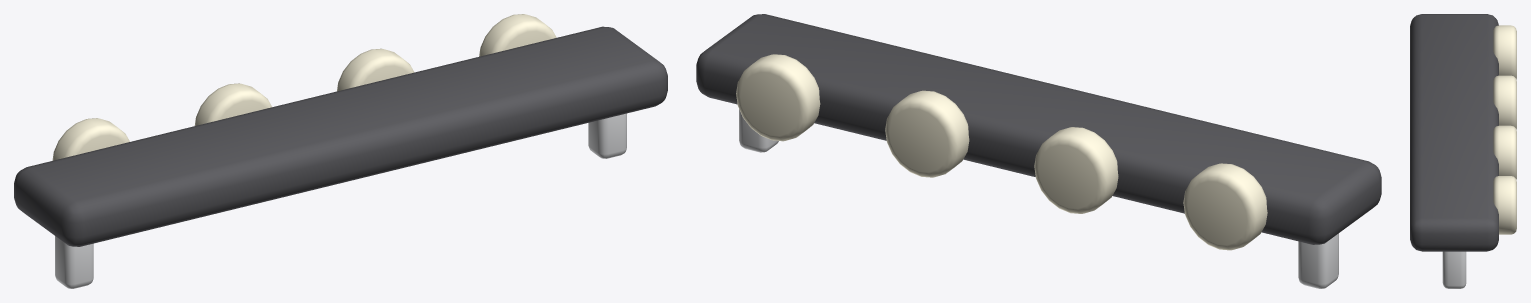
Rendered from Dach_Belka_Swietlna.fbx.
3 views of the same model, side by side, from view 1: azimuth 30°, elevation 25°; view 2: azimuth 150°, elevation 25°; view 3: azimuth 270°, elevation 25° (orthographic). The views are drawn at different scales.
Parts seen in each view (by area): view 1: Dach_Belka_Swietlna; view 2: Dach_Belka_Swietlna; view 3: Dach_Belka_Swietlna.
Boxes of the visible parts, box(x1,y1,x2,y2) form: Dach_Belka_Swietlna: box(14, 14, 667, 288); Dach_Belka_Swietlna: box(696, 14, 1381, 288); Dach_Belka_Swietlna: box(1410, 14, 1516, 288).
Size of the model in its own units: 1.7 by 0.33 by 0.36.
